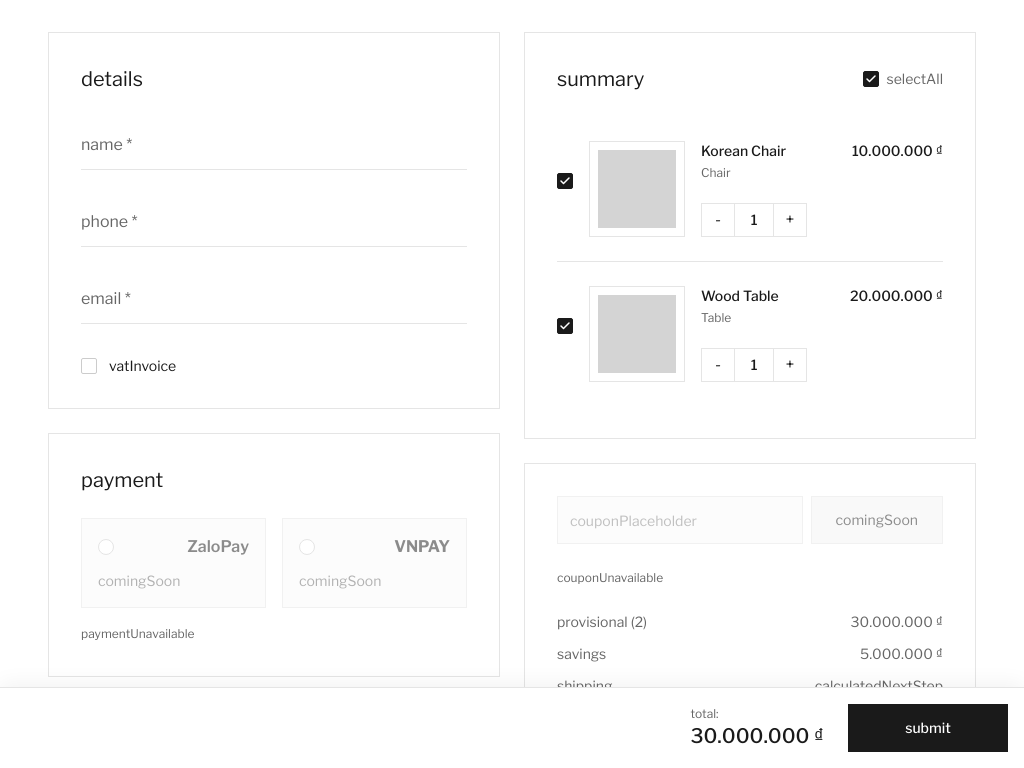
Test case: CheckoutPage › keeps cart state and entered form values when the legacy submission fails
Type "Nguyen Van A" into the field with placeholder "name" at (274, 144), box top-left (81, 117), bottom-right (467, 170)
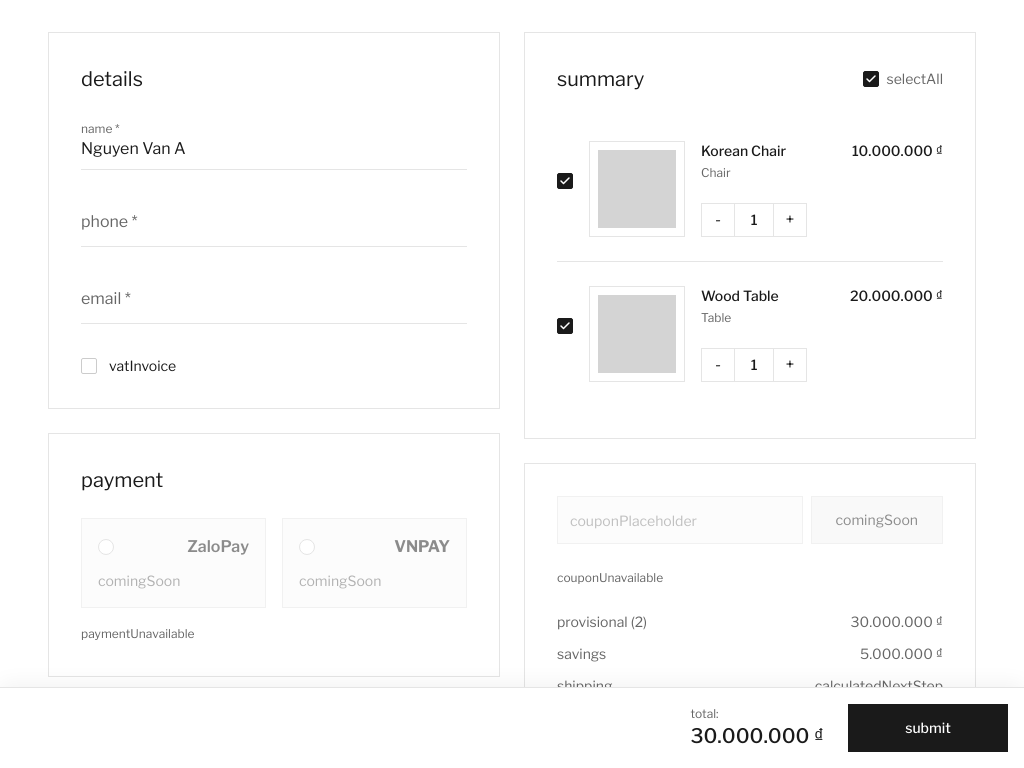
Type "+84901234567" into the field with placeholder "phone" at (274, 220), box top-left (81, 194), bottom-right (467, 247)
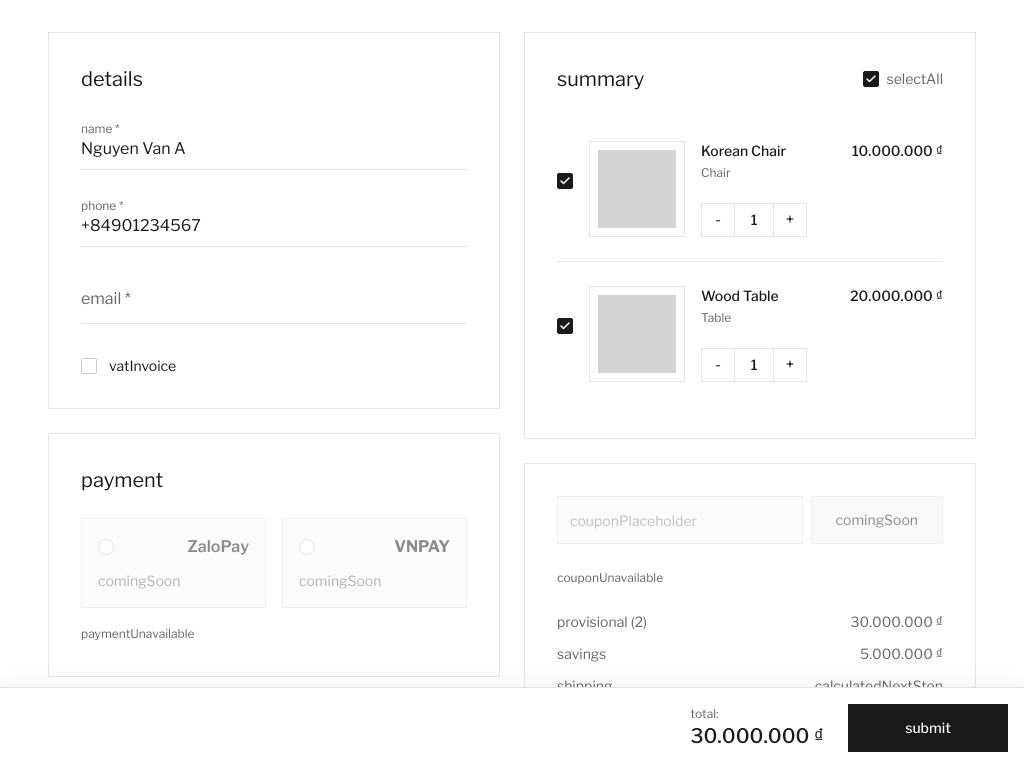
Type "a@example.com" into the field with placeholder "email" at (274, 298), box top-left (81, 271), bottom-right (467, 324)
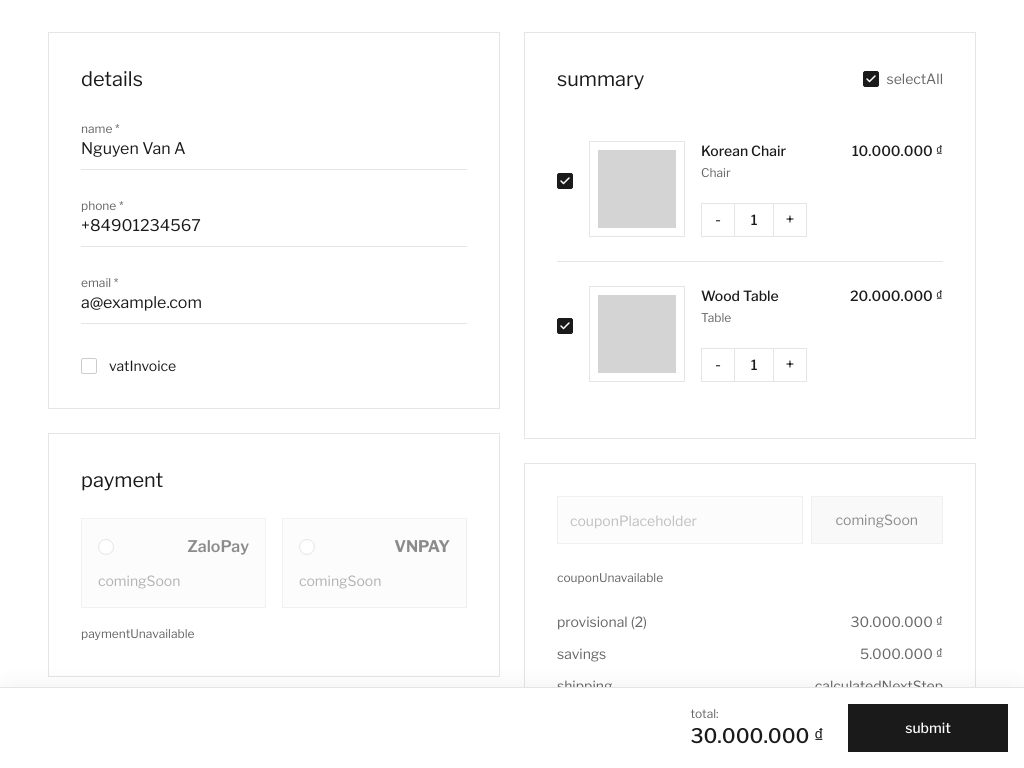
Click the button "submit" at (928, 728), box top-left (848, 704), bottom-right (1008, 752)
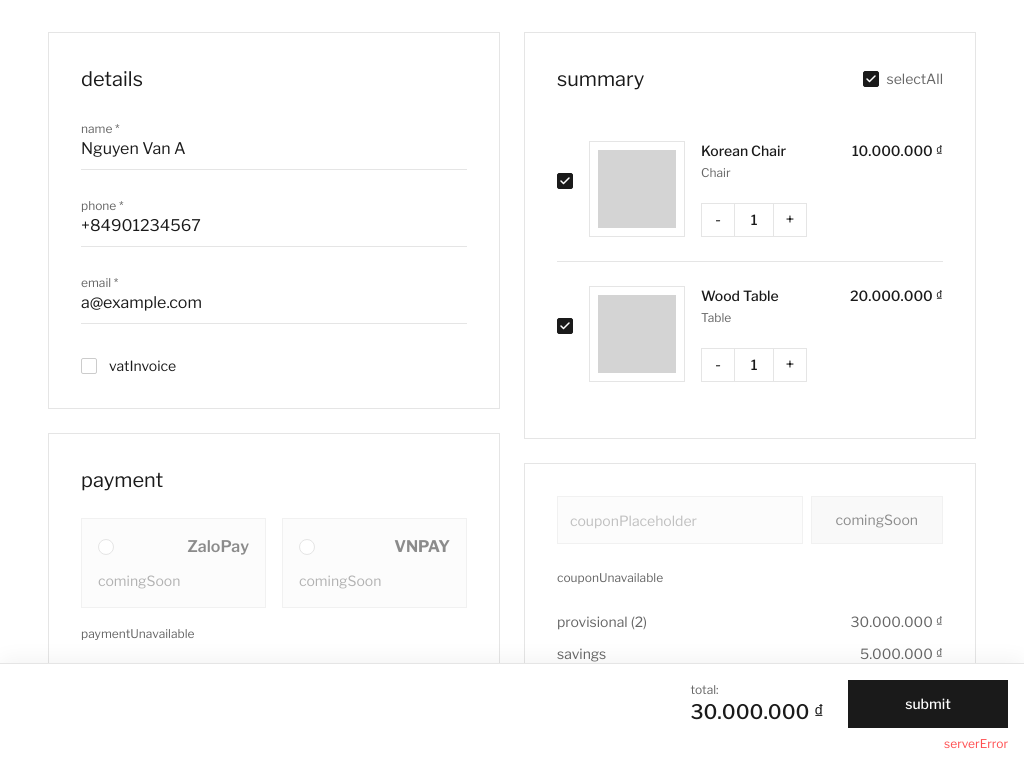
expect the field with placeholder "couponPlaceholder" is shown: met, box top-left (557, 496), bottom-right (803, 544)
expect the text "serverError" is shown: met, box top-left (944, 736), bottom-right (1008, 751)
